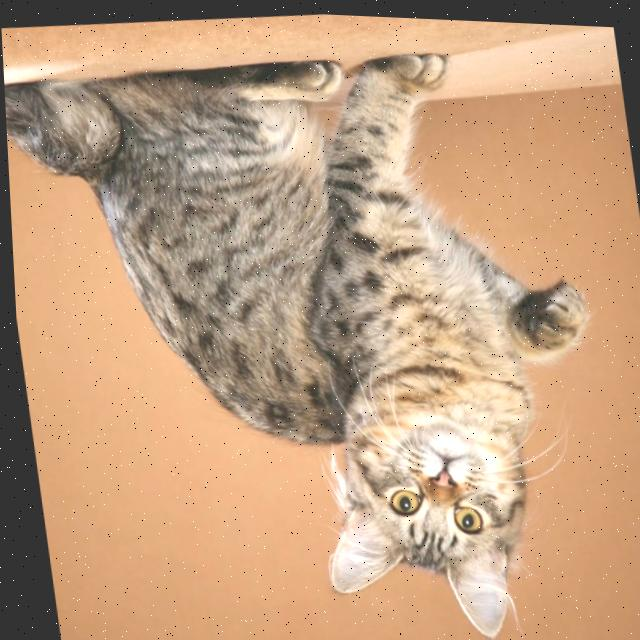American Bobtail: (1, 16, 632, 640)
